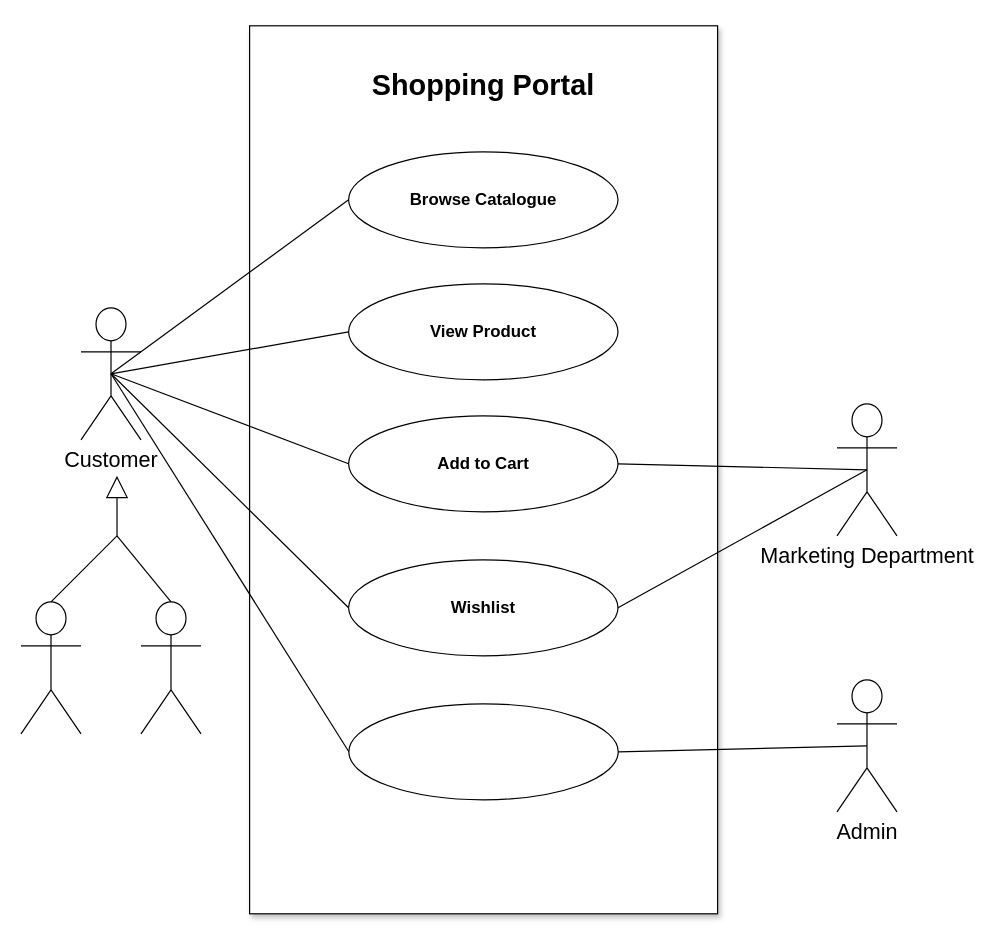
This 995x942 diagram has some shape labels left out. Here are the shapes that lost their labels. From the top down, the centre of each, then its label:
point (50, 667): Guest
point (170, 667): Logged-in
point (483, 751): Leave Product Reviews & Ratings
